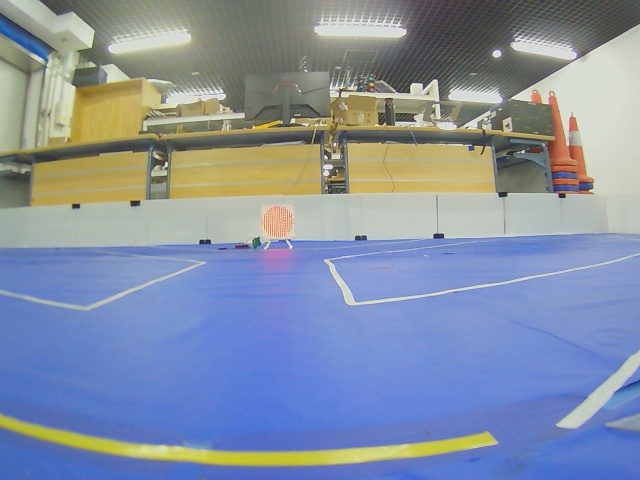red: (262, 205, 294, 240)
